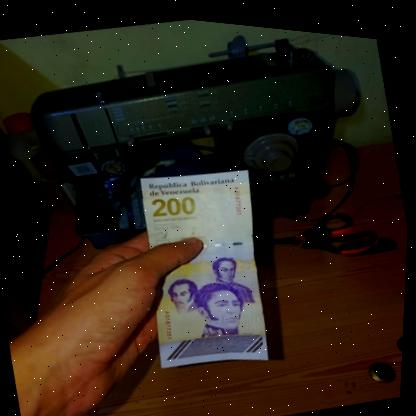two_hundred-front-vef: (124, 150, 288, 378)
